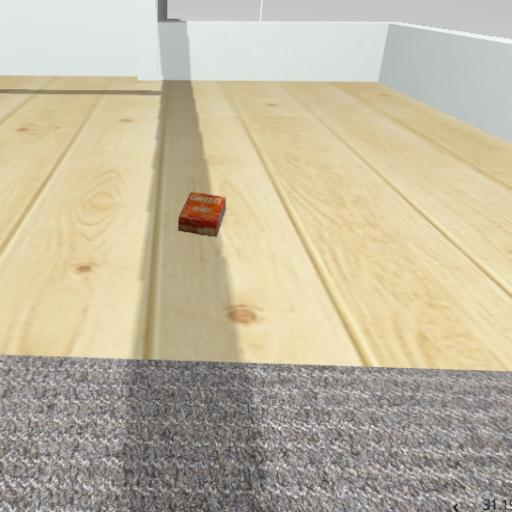BOX_R: (144, 142, 275, 289)
